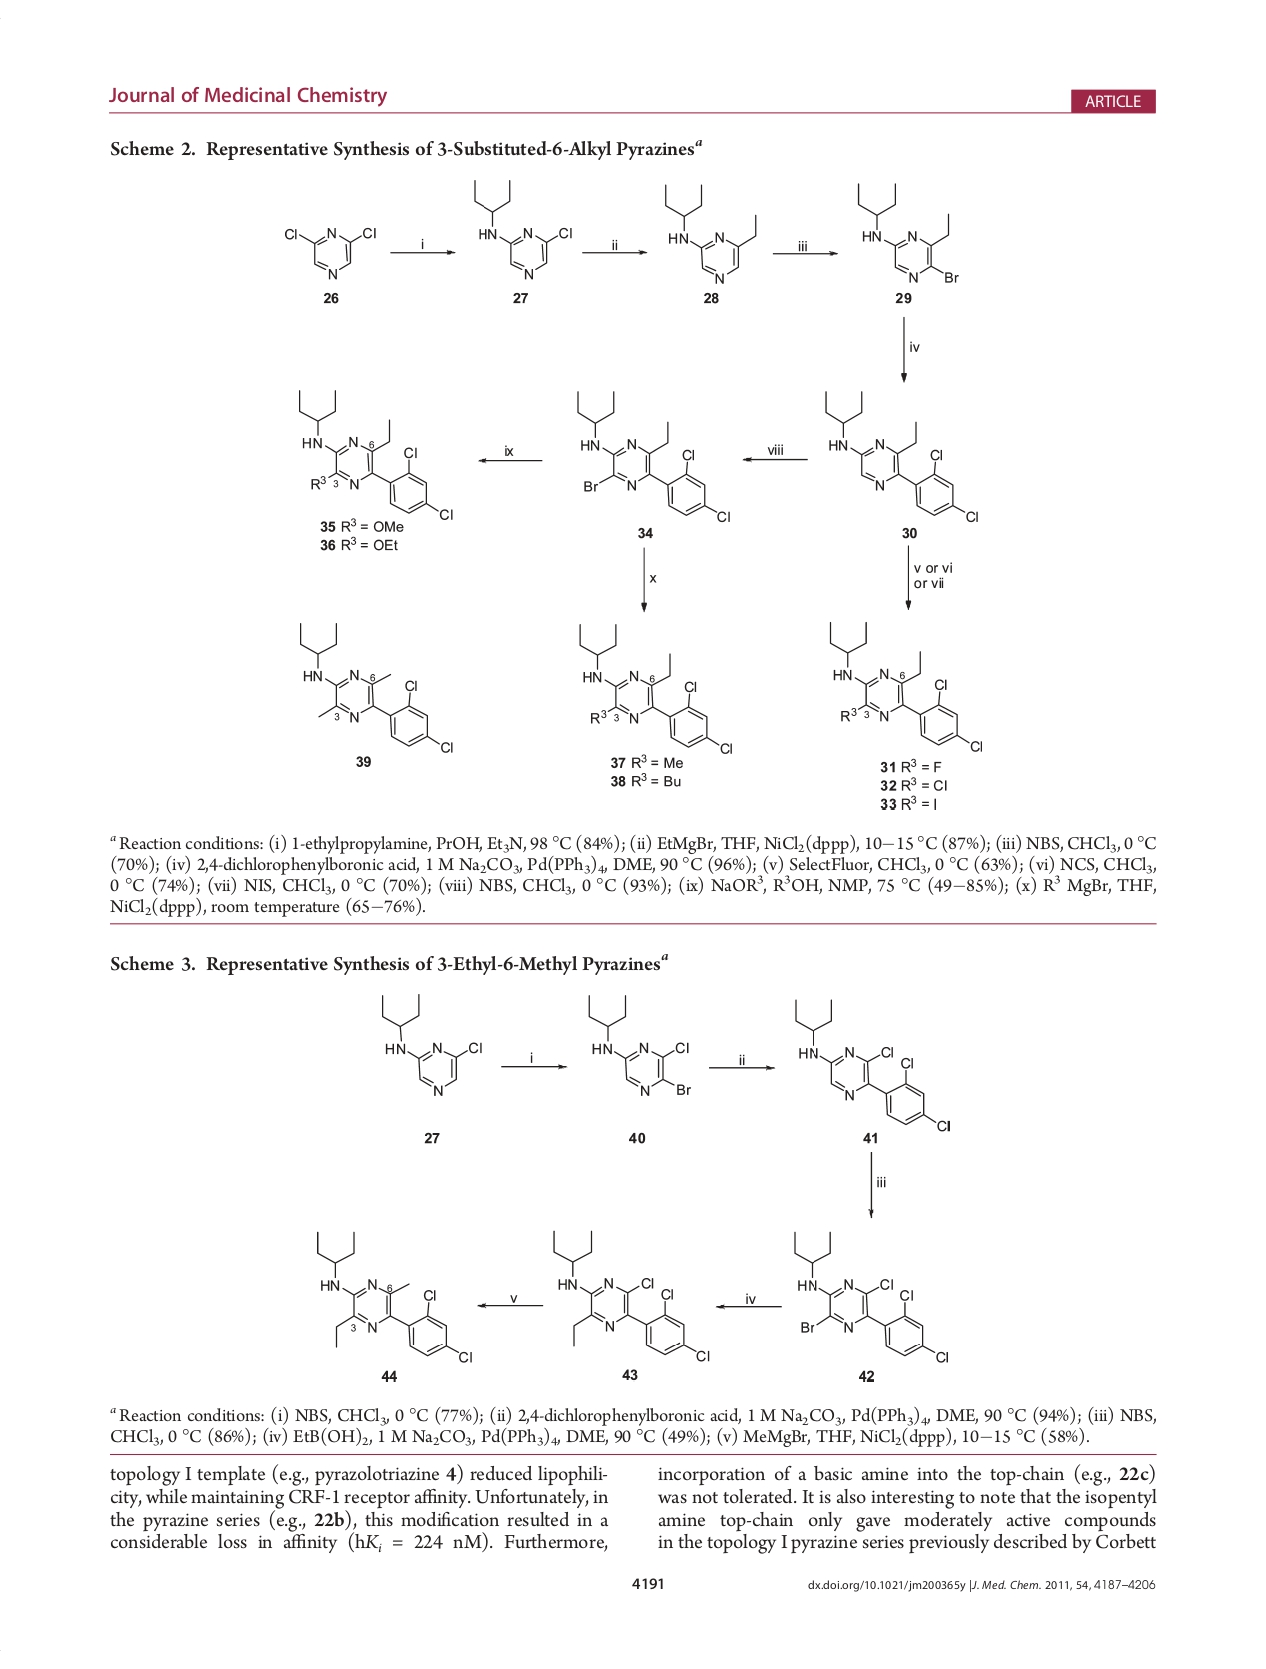exist_molecular: (289, 618, 457, 754), (791, 993, 952, 1134), (548, 1223, 711, 1362), (570, 384, 733, 523), (311, 1225, 473, 1363), (789, 1229, 952, 1366), (293, 384, 453, 523), (821, 388, 983, 525), (823, 617, 985, 754), (574, 621, 734, 755), (581, 992, 698, 1097), (852, 177, 961, 289), (376, 989, 487, 1098), (469, 176, 577, 281), (661, 176, 761, 289), (277, 223, 376, 281)
